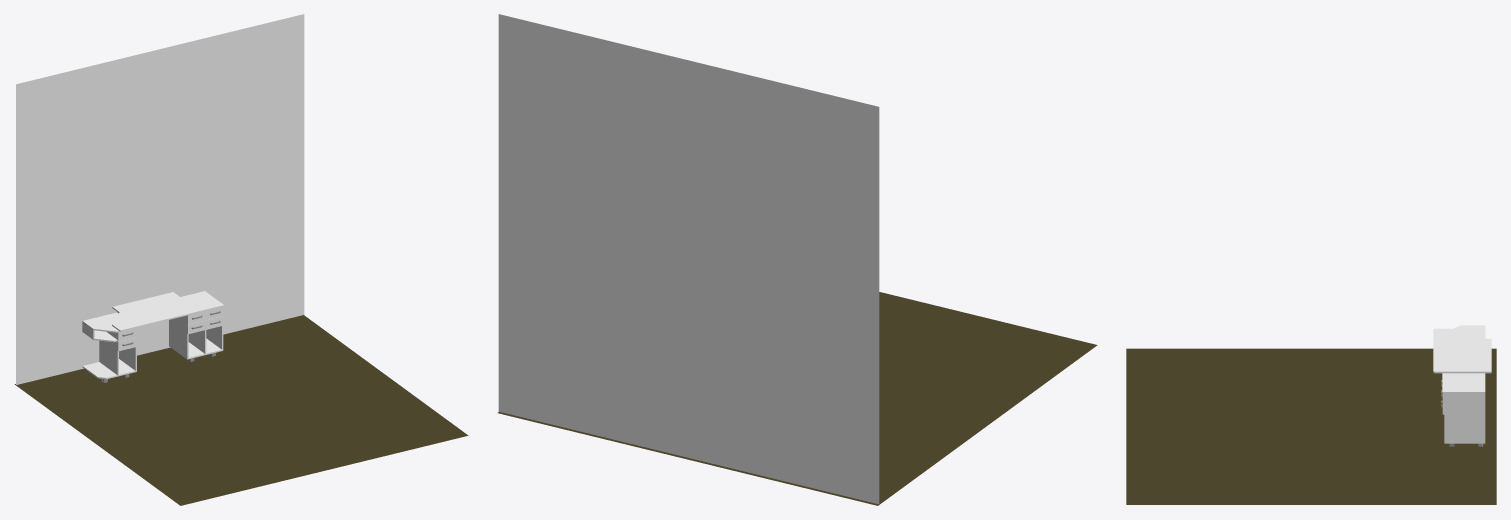
Rendered from TABLE.glb.
3 renders of one model, left to right at view 1: azimuth 30°, elevation 25°; view 2: azimuth 150°, elevation 25°; view 3: azimuth 270°, elevation 25°, orthographic. The views are drawn at different scales.
Parts seen in each view (by area): view 1: Wall, Flore, Table; view 2: Wall, Flore; view 3: Flore, Table.
Part boxes in pixels (bbox=[...]): Wall: bbox=[16, 14, 304, 384]; Flore: bbox=[14, 315, 468, 505]; Table: bbox=[82, 291, 224, 382]; Wall: bbox=[498, 14, 879, 504]; Flore: bbox=[497, 292, 1097, 505]; Flore: bbox=[1126, 348, 1496, 504]; Table: bbox=[1433, 325, 1491, 446].
Bounding box in the file's own units: 4.01 × 4 × 4.
